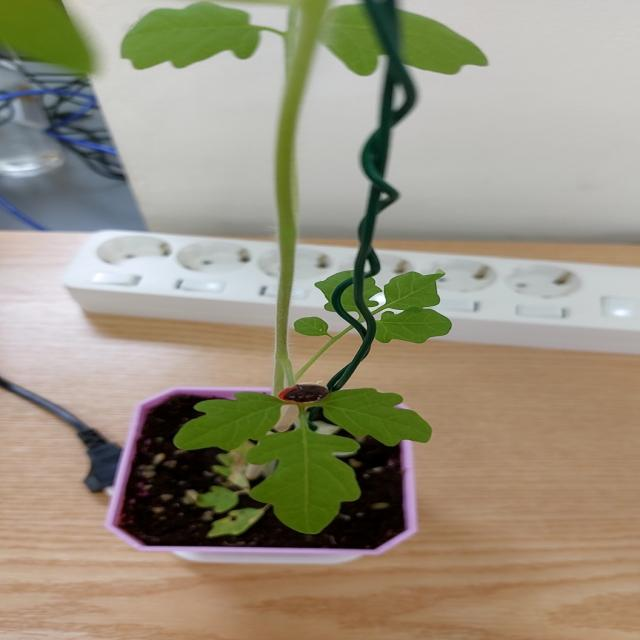bug: (267, 372, 344, 408)
